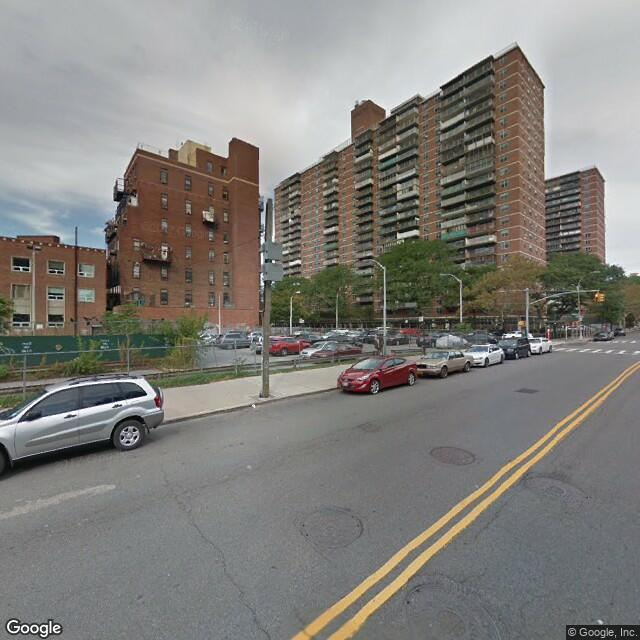litter: (246, 403, 262, 411)
